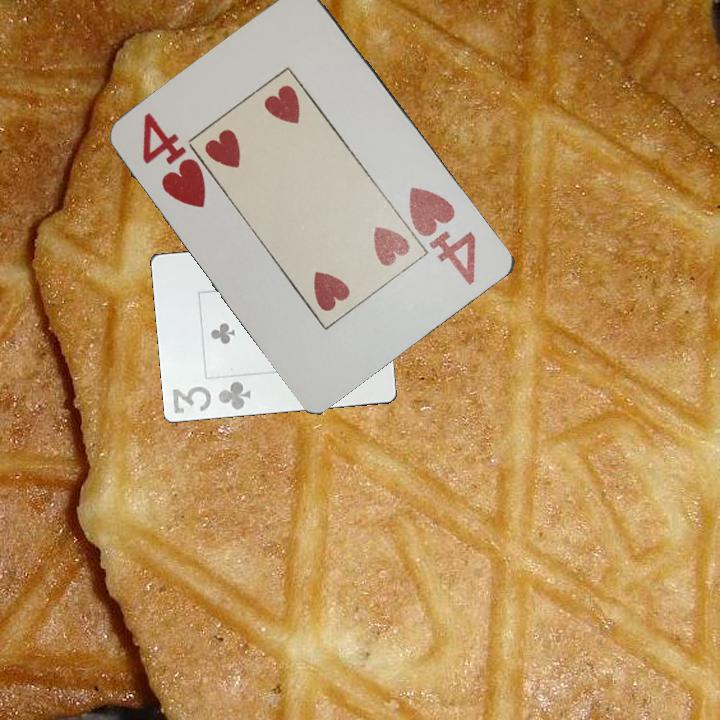3c: (169, 377, 254, 416)
4h: (405, 183, 480, 288), (138, 109, 210, 212)
